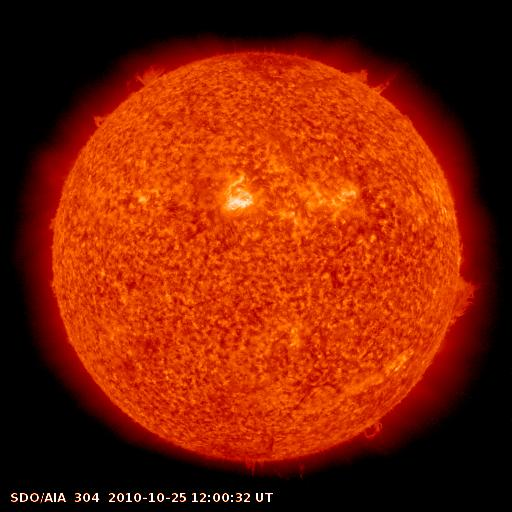prominence: (434, 256, 489, 339), (333, 54, 404, 102), (232, 452, 317, 487), (119, 59, 180, 100), (347, 410, 400, 450), (34, 207, 77, 240), (82, 104, 121, 140)
